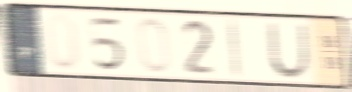0: (43, 11, 82, 72), (135, 16, 172, 76)
2: (180, 18, 217, 77)
5: (87, 15, 127, 72)
I: (225, 17, 244, 80)
U: (264, 21, 314, 81)
